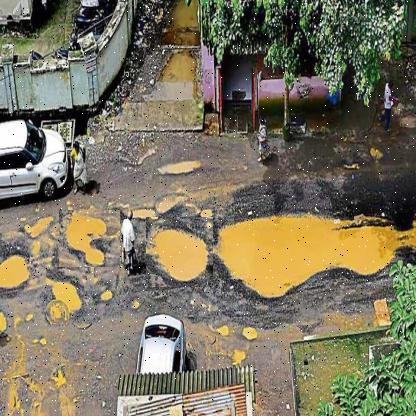pothole_water: (146, 217, 214, 288), (46, 266, 95, 325)
pothole_water_m: (59, 210, 121, 268)
